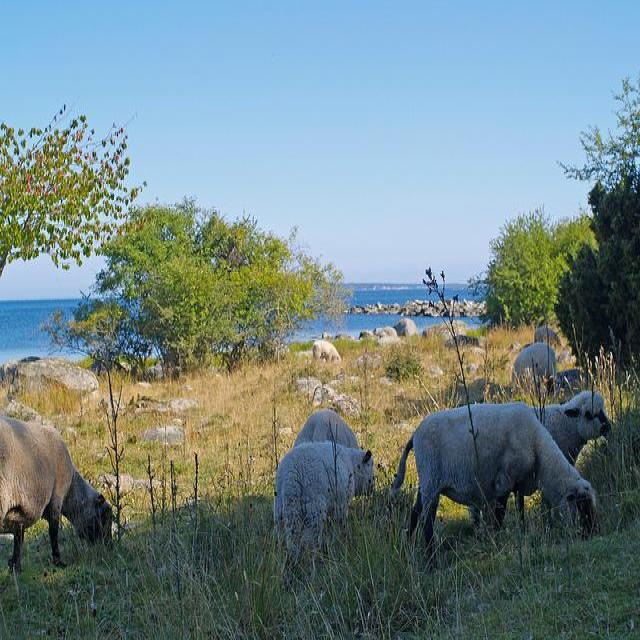Sheep: (389, 404, 599, 573), (0, 416, 116, 580), (273, 440, 376, 595), (532, 389, 613, 467)
